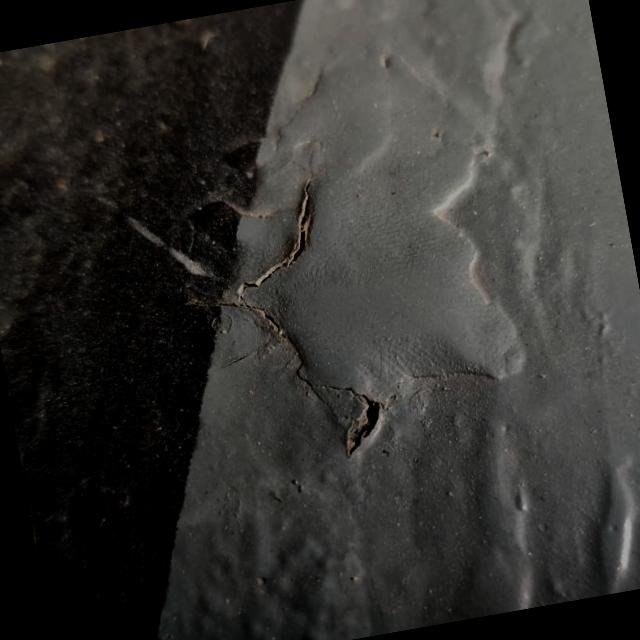crack: (152, 163, 406, 494)
